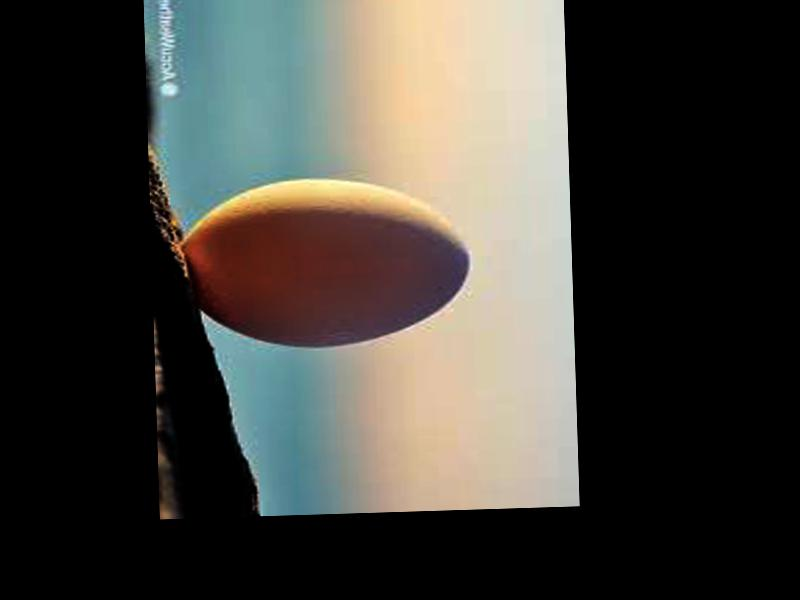Eggs: (183, 173, 474, 351)
